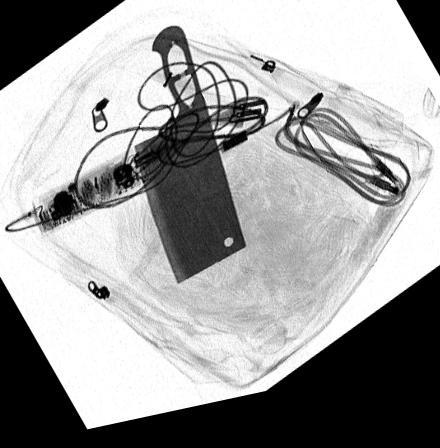Knife: (132, 31, 246, 292)
